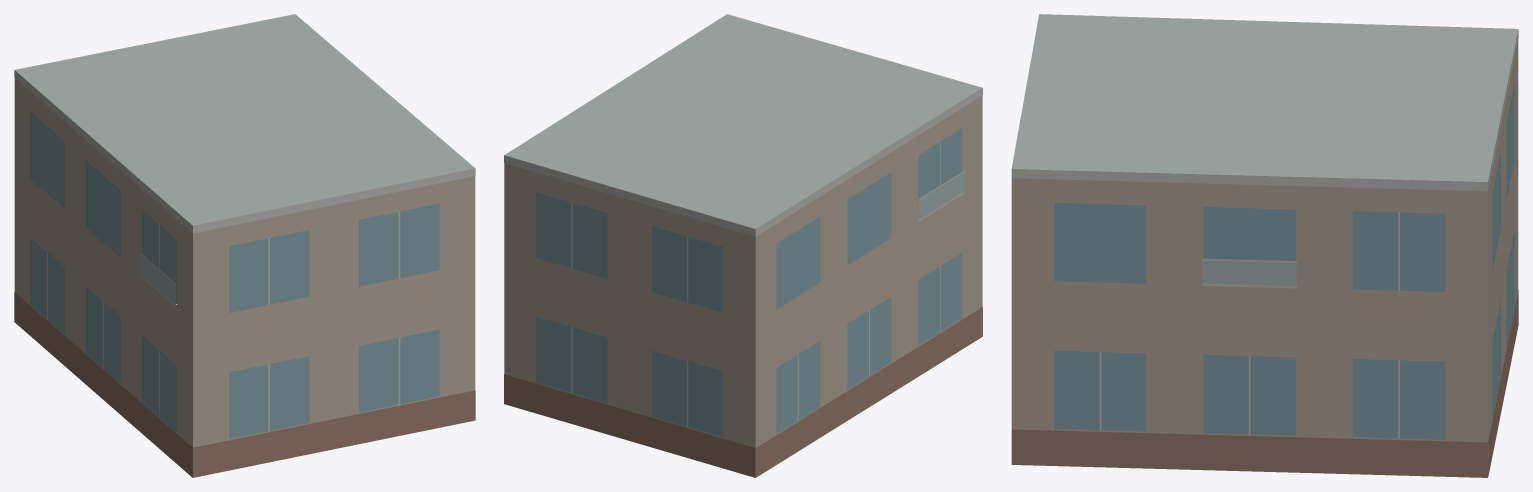
File: survey-upis-33003064.glb
The picture shows the model from 3 angles, left to right: view 1: azimuth 30°, elevation 25°; view 2: azimuth 150°, elevation 25°; view 3: azimuth 270°, elevation 25°; orthographic projection. The views are drawn at different scales.
Visible parts, largest first — view 1: survey-upis-33003064.tmp; view 2: survey-upis-33003064.tmp; view 3: survey-upis-33003064.tmp.
Boxes of the visible parts, <box> form: survey-upis-33003064.tmp: <box>14,14,475,477</box>; survey-upis-33003064.tmp: <box>504,14,982,477</box>; survey-upis-33003064.tmp: <box>1011,14,1518,477</box>.
Size of the model in its own units: 9.64 by 7.9 by 12.29.
